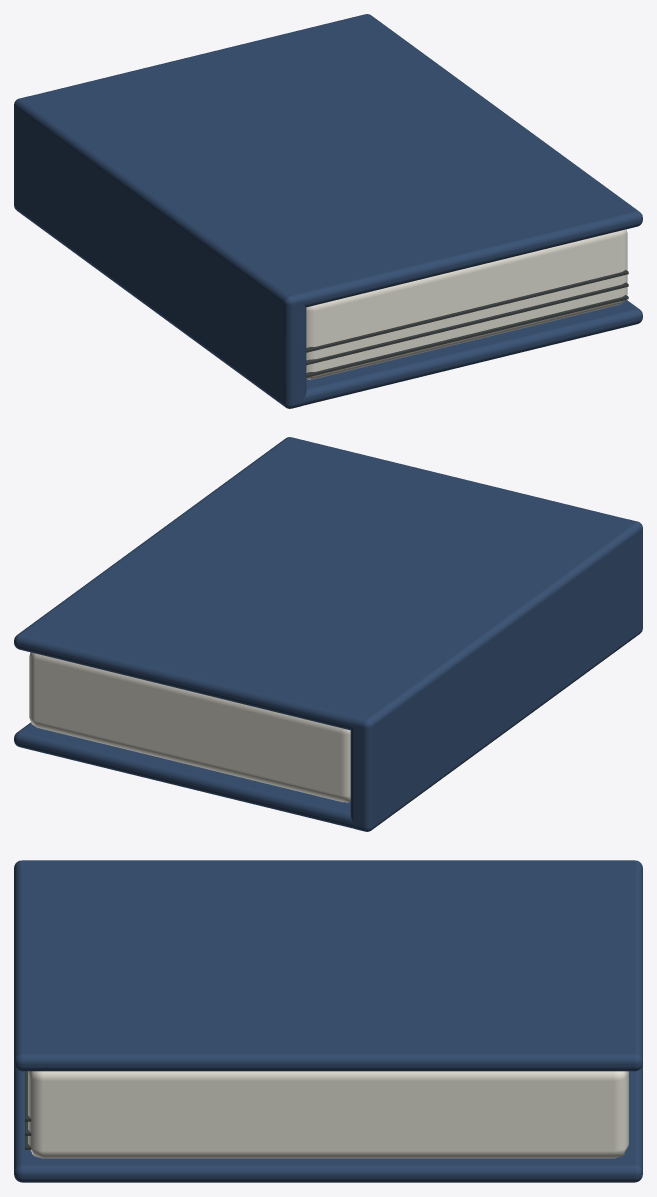
The model's file is city-courthouse-and-records-office-city-courthouse-and-ecc92bcd__30994.glb.
The picture shows the model from 3 angles, top to bottom: view 1: azimuth 30°, elevation 25°; view 2: azimuth 150°, elevation 25°; view 3: azimuth 270°, elevation 25°; orthographic projection. The views are drawn at different scales.
Parts seen in each view (by area): view 1: city-courthouse-and-records-office-bound-register; view 2: city-courthouse-and-records-office-bound-register; view 3: city-courthouse-and-records-office-bound-register.
Boxes of the visible parts, bbox=[...] form: city-courthouse-and-records-office-bound-register: bbox=[14, 14, 642, 408]; city-courthouse-and-records-office-bound-register: bbox=[14, 437, 642, 831]; city-courthouse-and-records-office-bound-register: bbox=[14, 860, 642, 1182].
Size of the model in its own units: 0.3 by 0.09 by 0.4.
